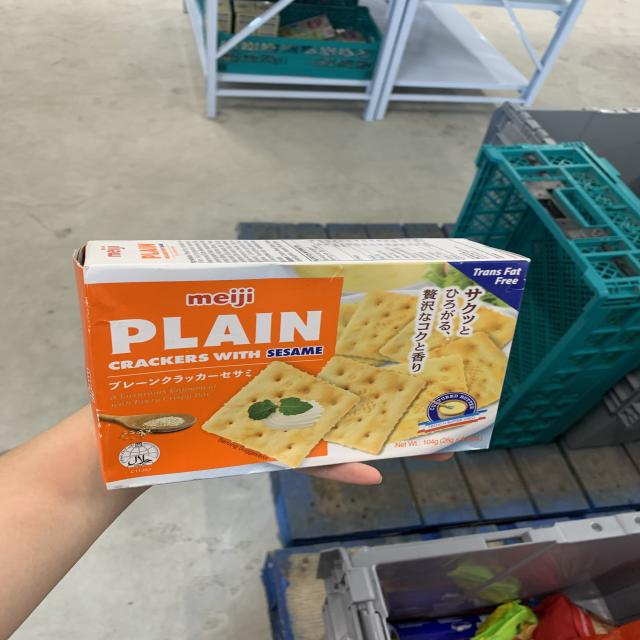object_name: (79, 248, 500, 456)
